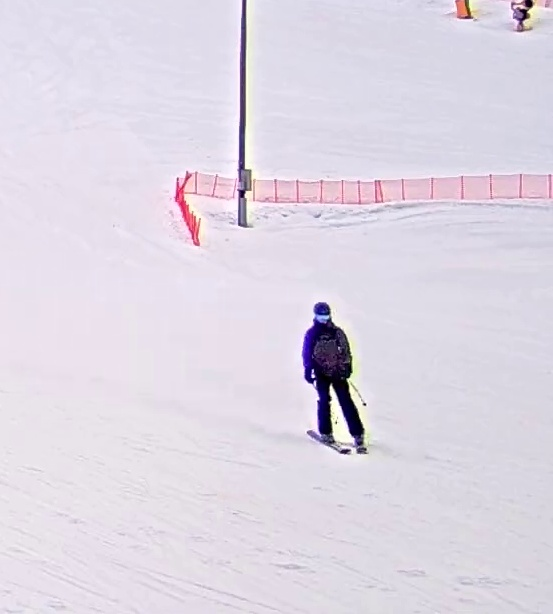skier: (298, 299, 372, 456)
